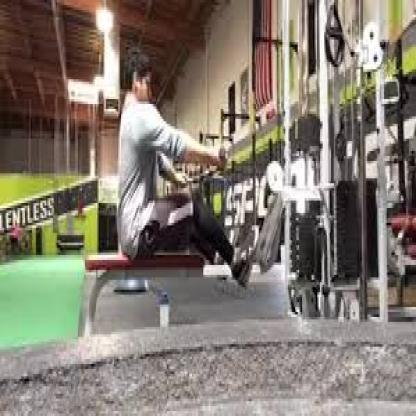Seated Cable Rows: (82, 0, 385, 347)
